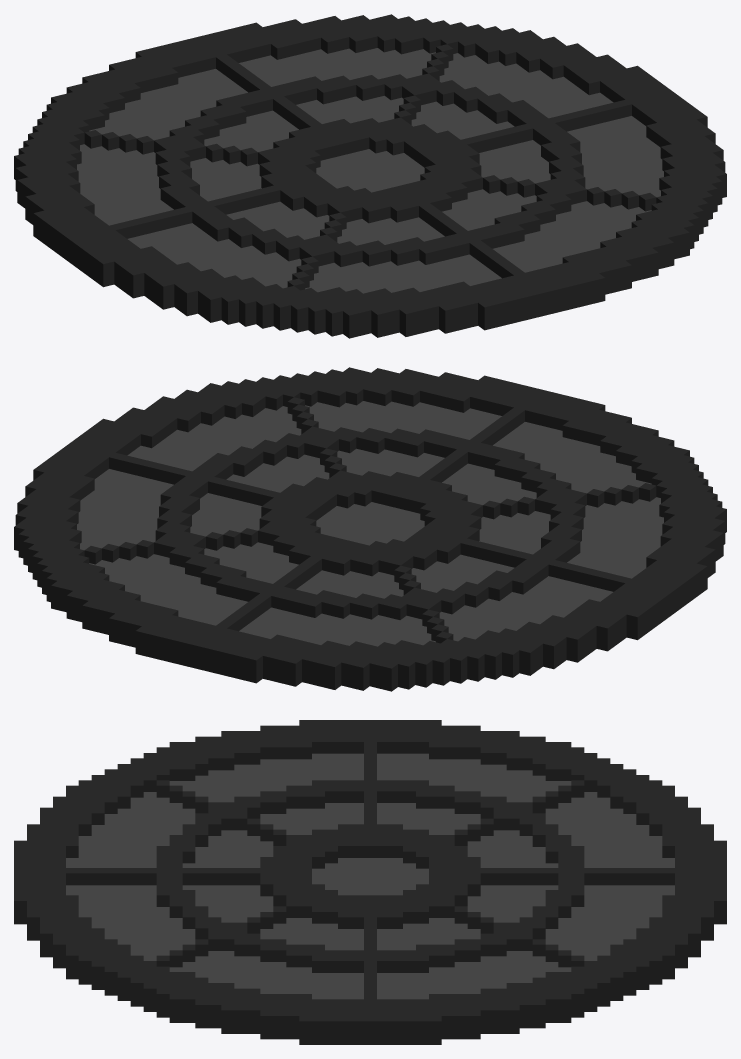
The model's file is manhole.fbx.
The picture shows the model from 3 angles, top to bottom: view 1: azimuth 30°, elevation 25°; view 2: azimuth 150°, elevation 25°; view 3: azimuth 270°, elevation 25°; orthographic projection. The views are drawn at different scales.
Visible parts, largest first — view 1: manhole; view 2: manhole; view 3: manhole.
Part boxes in pixels (box(x1,y1,x2,y2)): manhole: box(14, 14, 726, 338); manhole: box(14, 367, 726, 691); manhole: box(14, 720, 726, 1044).
Size of the model in its own units: 5500 by 200 by 5500.
1 material, 1 textured.
